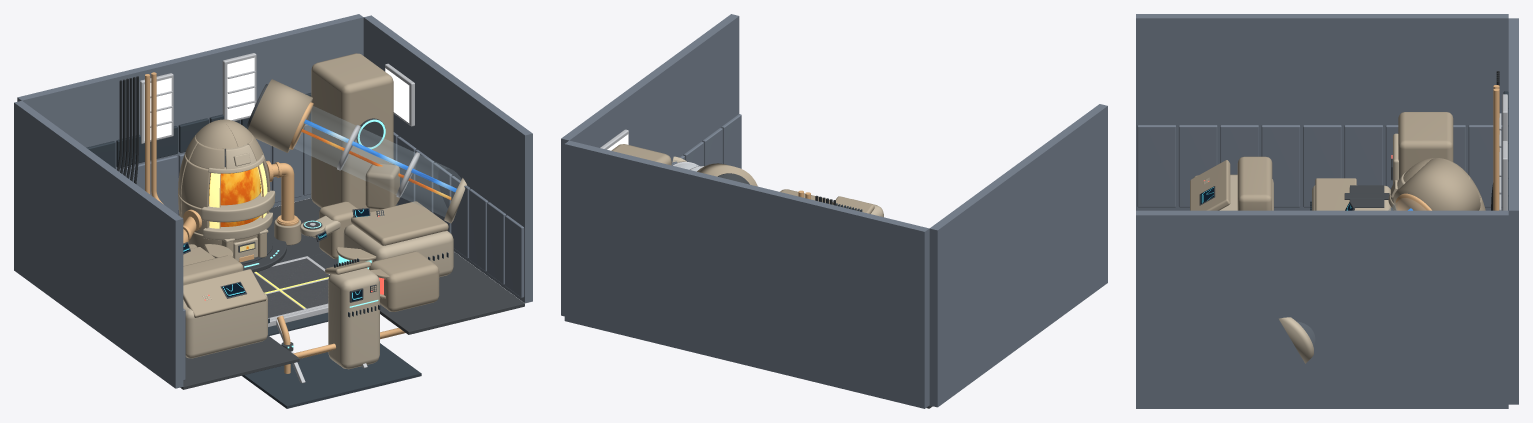
File: power_room.glb
3 renders of one model, left to right at view 1: azimuth 30°, elevation 25°; view 2: azimuth 150°, elevation 25°; view 3: azimuth 270°, elevation 25°, orthographic. The views are drawn at different scales.
Parts seen in each view (by area): view 1: wall_left, wall_right, wall_back, right_back_machine, tube_glass, pit_floor, floor_side_1, front_console_body, left_console_body, floor_side_-1, right_red_body, tube_back_housing (+43 smaller); view 2: wall_back, wall_left, wall_right, wall_right_panel_-4, wall_right_panel_-3, right_back_machine, tube_back_housing; view 3: wall_right, wall_left, wall_back, wall_left_panel_-4, tube_back_housing, left_cabinet, wall_left_panel_-1, wall_left_panel_0, wall_left_panel_-3, wall_left_panel_1, wall_left_panel_4, left_console_head (+12 smaller).
Part boxes in pixels (x1,y1,x2,y2): wall_left: (14, 100, 183, 388); wall_right: (363, 15, 532, 303); wall_back: (17, 14, 363, 214); right_back_machine: (311, 53, 393, 211); tube_glass: (293, 106, 460, 216); pit_floor: (242, 343, 421, 408); floor_side_1: (309, 251, 524, 334); front_console_body: (328, 268, 379, 369); left_console_body: (183, 292, 267, 358); floor_side_-1: (180, 335, 299, 389); right_red_body: (369, 251, 439, 311); tube_back_housing: (248, 79, 312, 152); wall_back: (564, 140, 929, 408); wall_left: (929, 104, 1107, 407); wall_right: (561, 14, 739, 316); wall_right_panel_-4: (721, 114, 741, 168); wall_right_panel_-3: (702, 128, 722, 165); right_back_machine: (611, 144, 671, 165); tube_back_housing: (697, 163, 757, 186); wall_right: (1136, 210, 1508, 408); wall_left: (1136, 14, 1508, 210); wall_back: (1508, 18, 1518, 404); wall_left_panel_-4: (1137, 125, 1175, 207); tube_back_housing: (1393, 158, 1480, 210); left_cabinet: (1398, 112, 1453, 178); wall_left_panel_-1: (1261, 125, 1300, 207); wall_left_panel_0: (1303, 125, 1341, 207); wall_left_panel_-3: (1178, 125, 1217, 207); wall_left_panel_1: (1344, 125, 1382, 185); wall_left_panel_4: (1468, 125, 1502, 207); left_console_head: (1237, 156, 1272, 210).
Bounding box in the file's own units: 14.22 × 7.95 × 11.1.
Materials: 20 (5 with a texture image).
